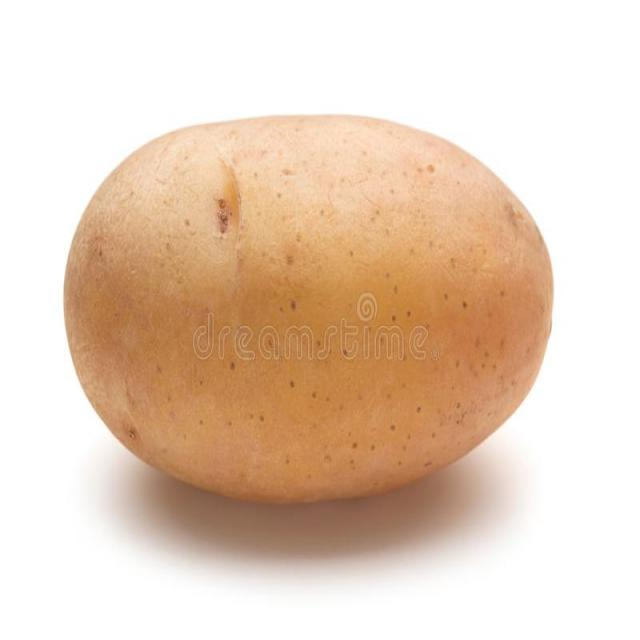potato: (63, 116, 554, 506)
